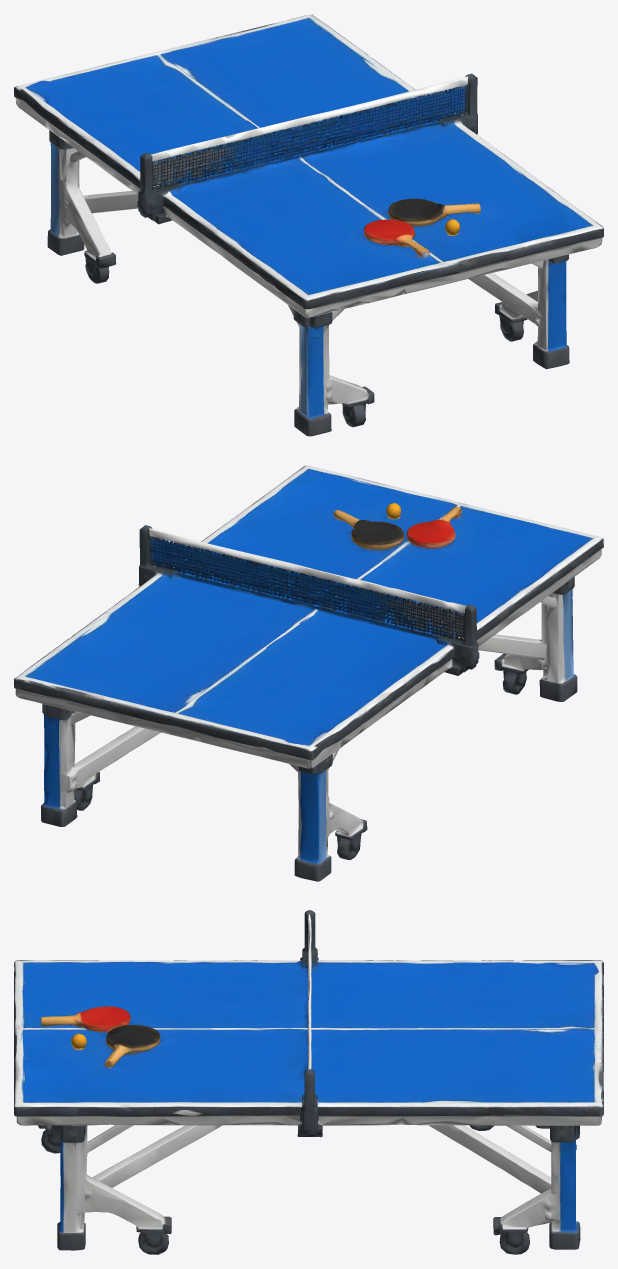
The model's file is pingpong.glb.
3 renders of one model, top to bottom at view 1: azimuth 30°, elevation 25°; view 2: azimuth 150°, elevation 25°; view 3: azimuth 270°, elevation 25°, orthographic.
Parts seen in each view (by area): view 1: tripo_node_916a3628-c62a-4688-8e2d-f1ed5d4b3cd8; view 2: tripo_node_916a3628-c62a-4688-8e2d-f1ed5d4b3cd8; view 3: tripo_node_916a3628-c62a-4688-8e2d-f1ed5d4b3cd8.
Boxes of the visible parts, x1,y1,x2,y2 form: tripo_node_916a3628-c62a-4688-8e2d-f1ed5d4b3cd8: (14, 14, 603, 436); tripo_node_916a3628-c62a-4688-8e2d-f1ed5d4b3cd8: (14, 465, 603, 881); tripo_node_916a3628-c62a-4688-8e2d-f1ed5d4b3cd8: (14, 910, 603, 1254).
Bounding box in the file's own units: 0.6629 × 0.376 × 1.
Materials: 1 (1 with a texture image).
